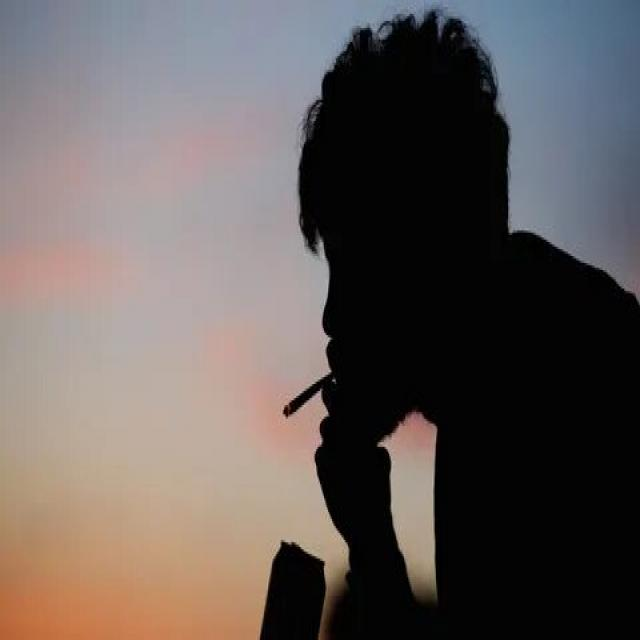cigarette: (283, 361, 336, 424)
